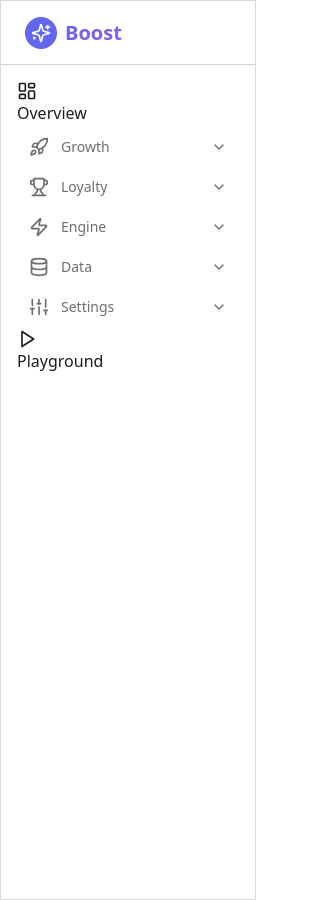
Test: Sidebar › expands Growth group to show Onboarding and Referrals
Click on Growth to expand
Click the button "Growth": (128, 147) x1=17 y1=129 x2=239 y2=165
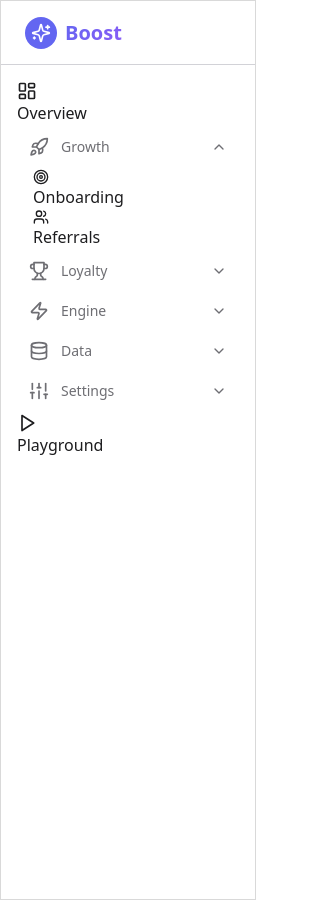
Now the link "Onboarding" is shown, box x1=33 y1=169 x2=124 y2=208
Now the link "Referrals" is shown, box x1=33 y1=209 x2=100 y2=248
